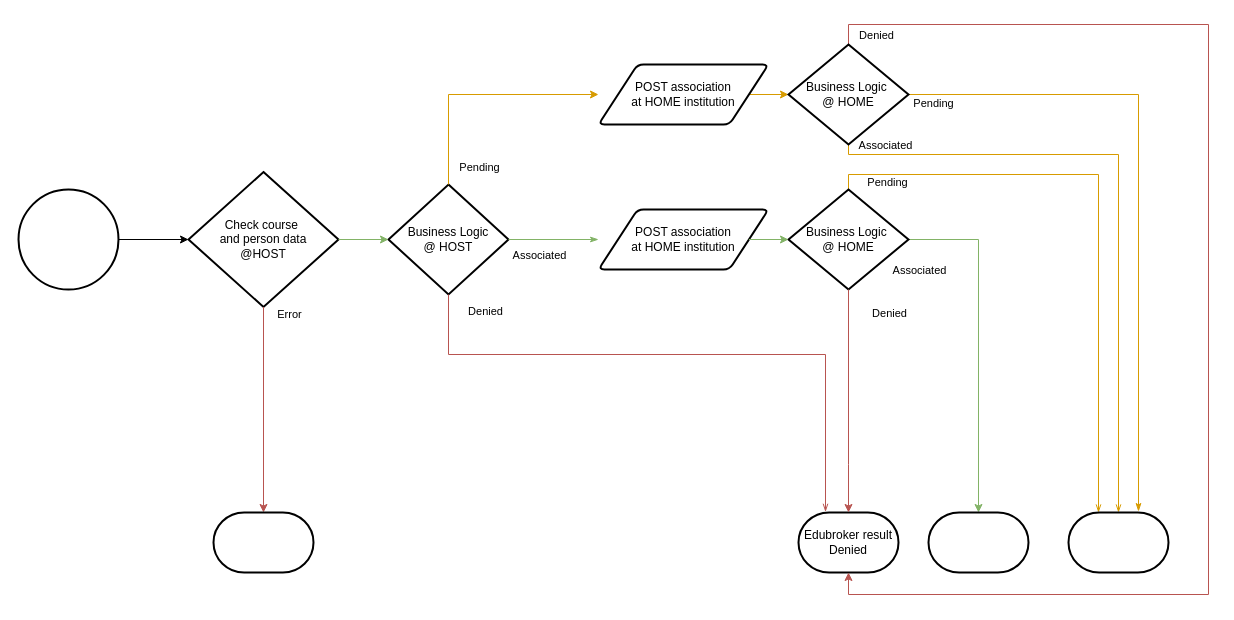
Some shapes in this 1234 by 620 pixel diagram are drawn without their labels. Each missing label, with the centre of its shape:
"Edubroker Error" belongs at (x=263, y=542).
"Edubroker result Associated" belongs at (x=978, y=542).
"Edubroker result Pending" belongs at (x=1118, y=542).
"Start" belongs at (x=68, y=239).
